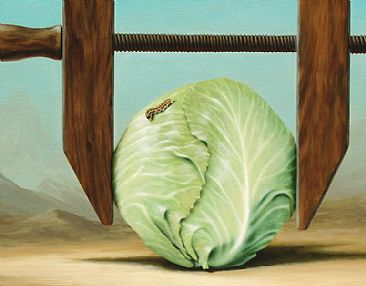cabbage: (110, 75, 298, 273)
